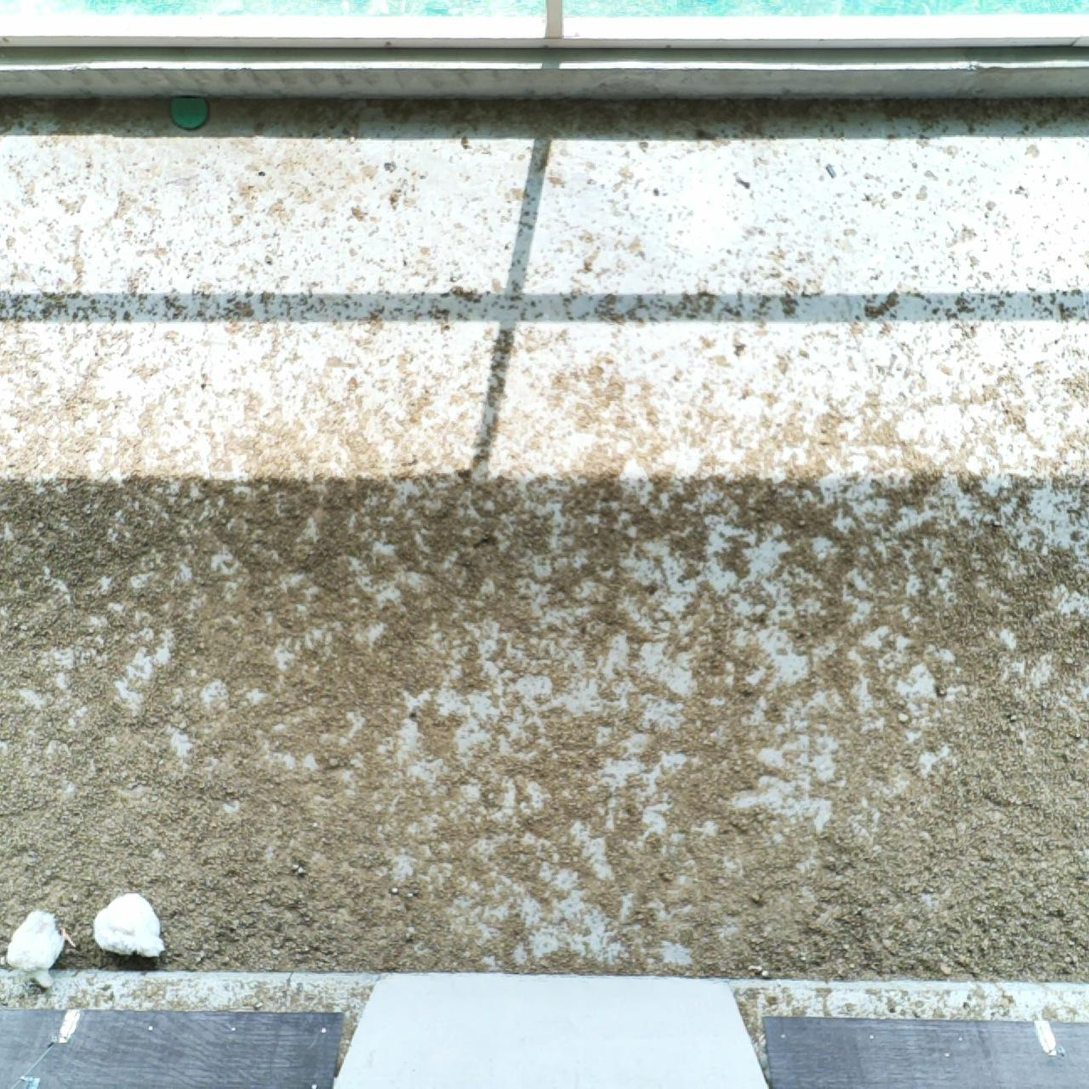chicken: (4, 908, 78, 993), (89, 890, 170, 961)
